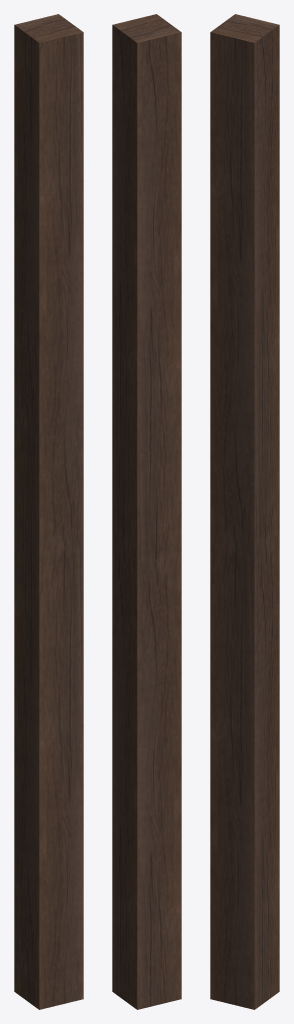
File: pile01.fbx
3 views of the same model, side by side, from view 1: azimuth 30°, elevation 25°; view 2: azimuth 210°, elevation 25°; view 3: azimuth 330°, elevation 25° (orthographic).
Visible parts, largest first — view 1: pile01; view 2: pile01; view 3: pile01.
Part boxes in pixels (x1=…): pile01: x1=14, y1=14, x2=83, y2=1009; pile01: x1=112, y1=14, x2=181, y2=1009; pile01: x1=210, y1=14, x2=279, y2=1009.
Size of the model in its own units: 14.15 by 296 by 13.76.
